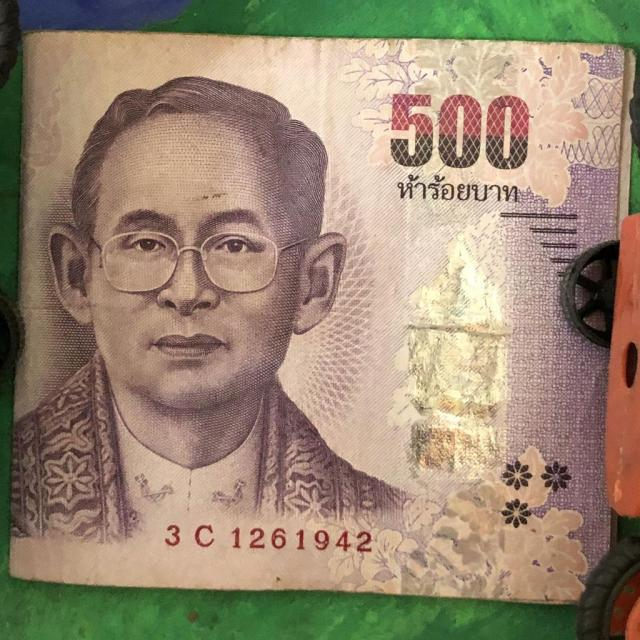THAI500: (9, 32, 633, 603)
